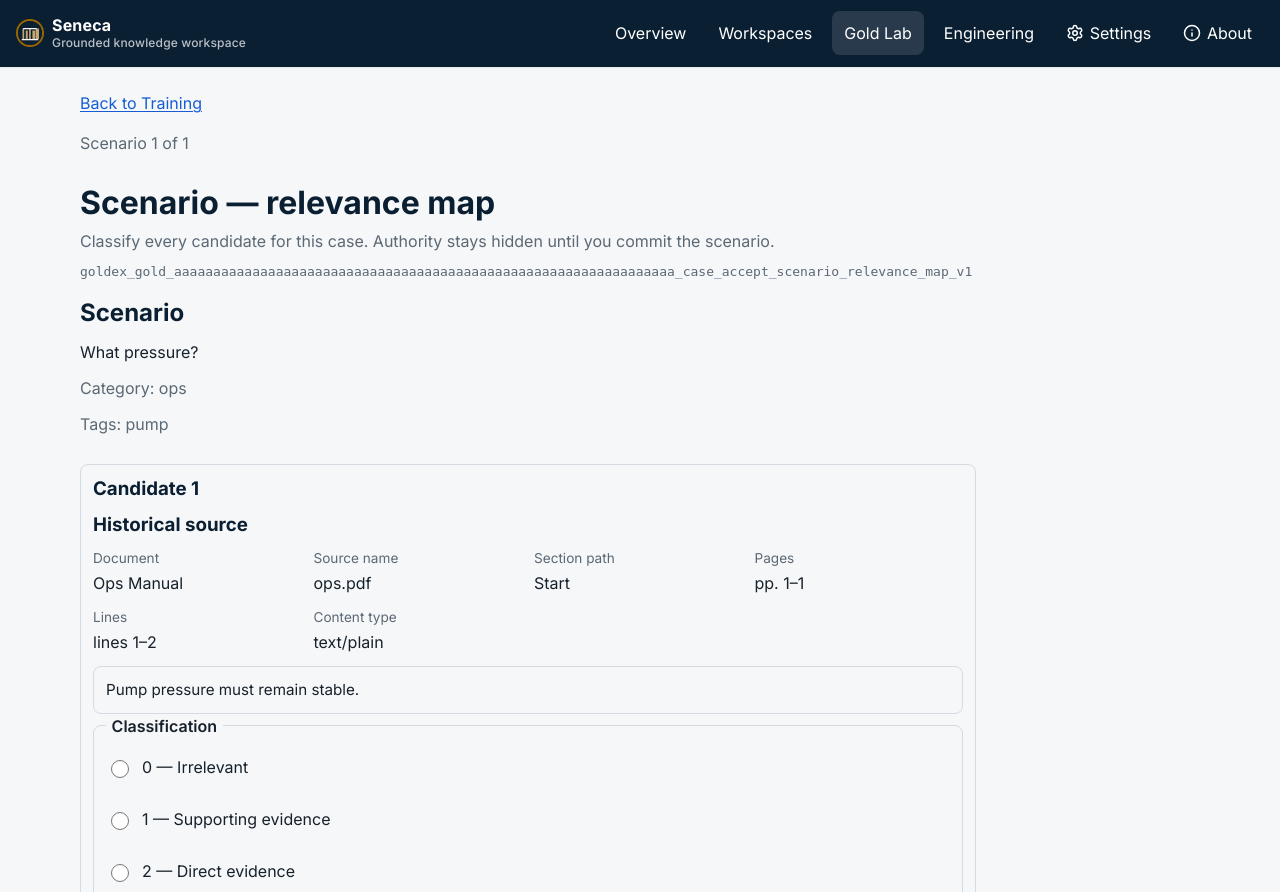
Scenario: 16G-I5 training scenario / debrief › hides authority until scenario commit, then locks and debriefs
Check: the text with test id "scenario-stem" reads "What pressure?", box [80,342,198,362]
Click the radio button labelled "2 — Direct evidence". click: [120, 873]
box: [111,864,129,882]
(page scrolled)
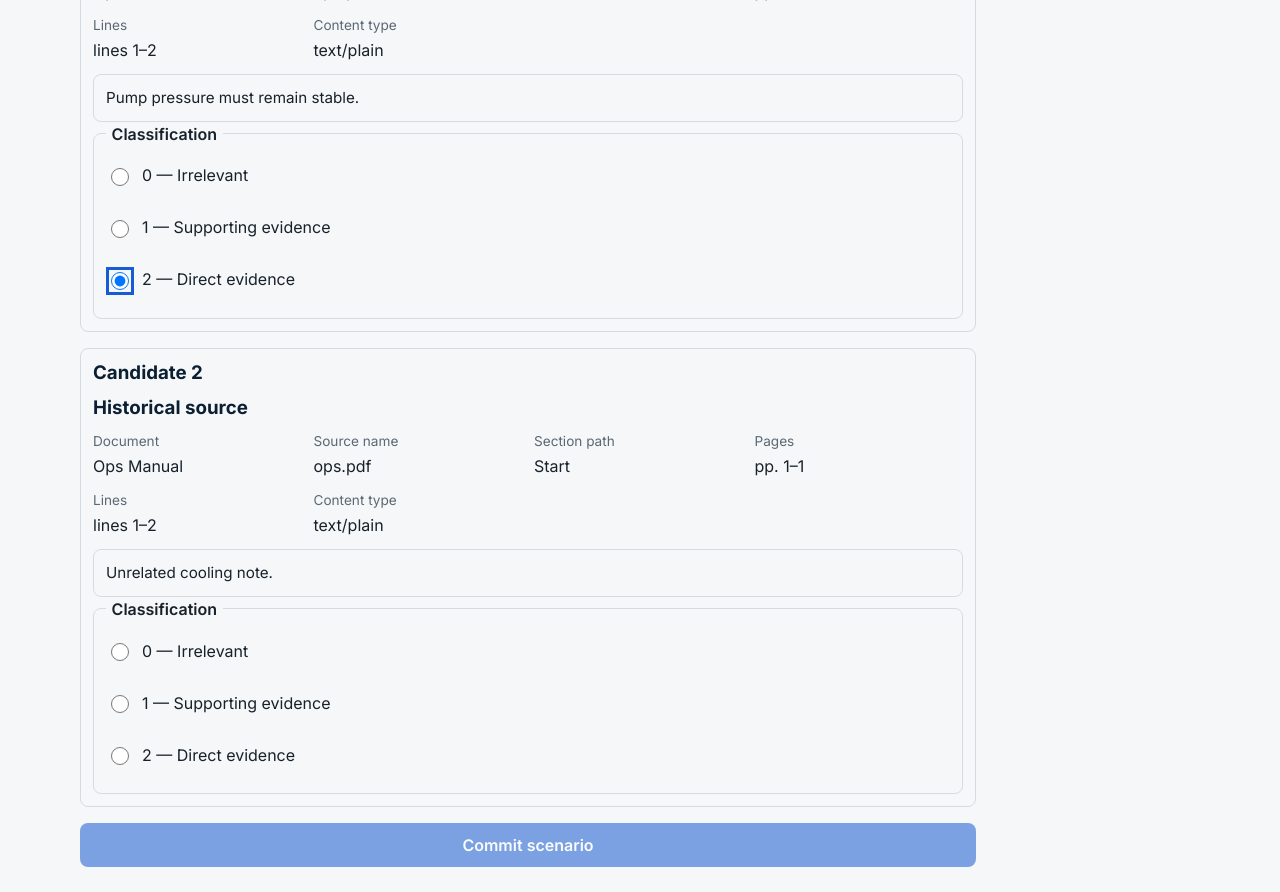
Click the radio button labelled "1 — Supporting evidence" below "Unrelated cooling note.". click: [120, 704]
box: [111,695,129,713]
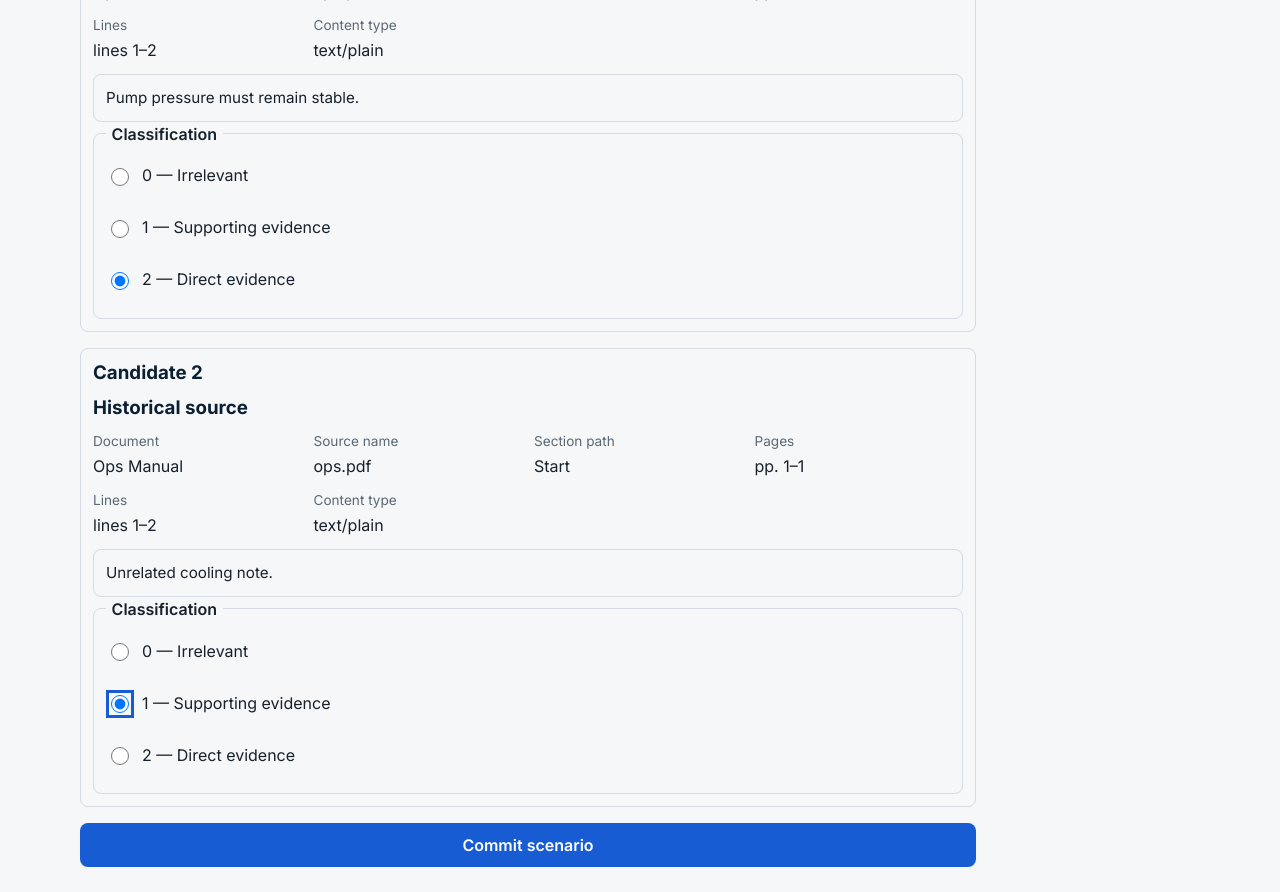
Note: Revise B before commit
Click the radio button labelled "0 — Irrelevant" below "Unrelated cooling note.". click: [120, 652]
box: [111,643,129,661]
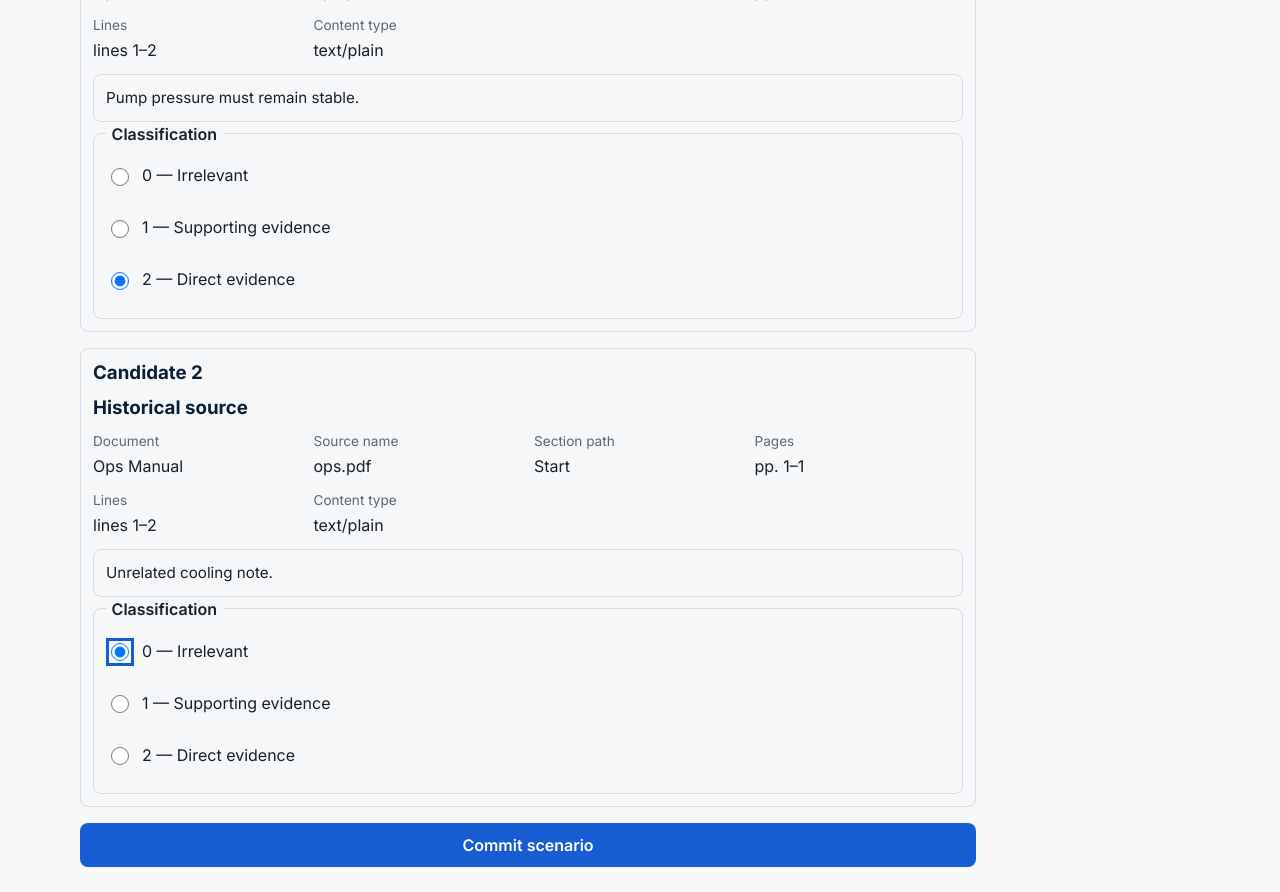
Click the button "Commit scenario". click: [528, 845]
box: [80,823,976,867]
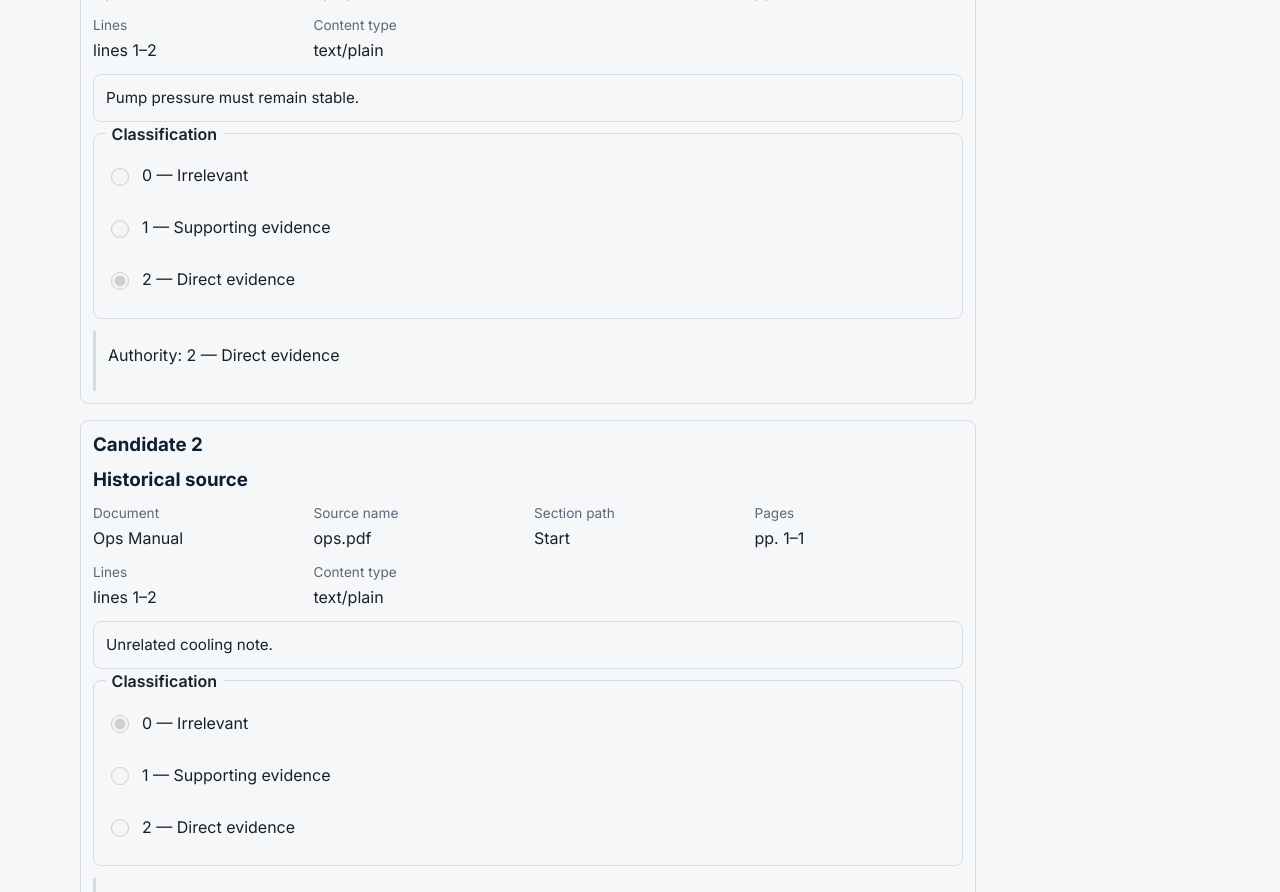
Check: the element with test id "scenario-reveal-chunk_a" is shown, box [93,331,963,391]
Check: the 1st radio button labelled "2 — Direct evidence" is disabled, box [111,272,129,290]
